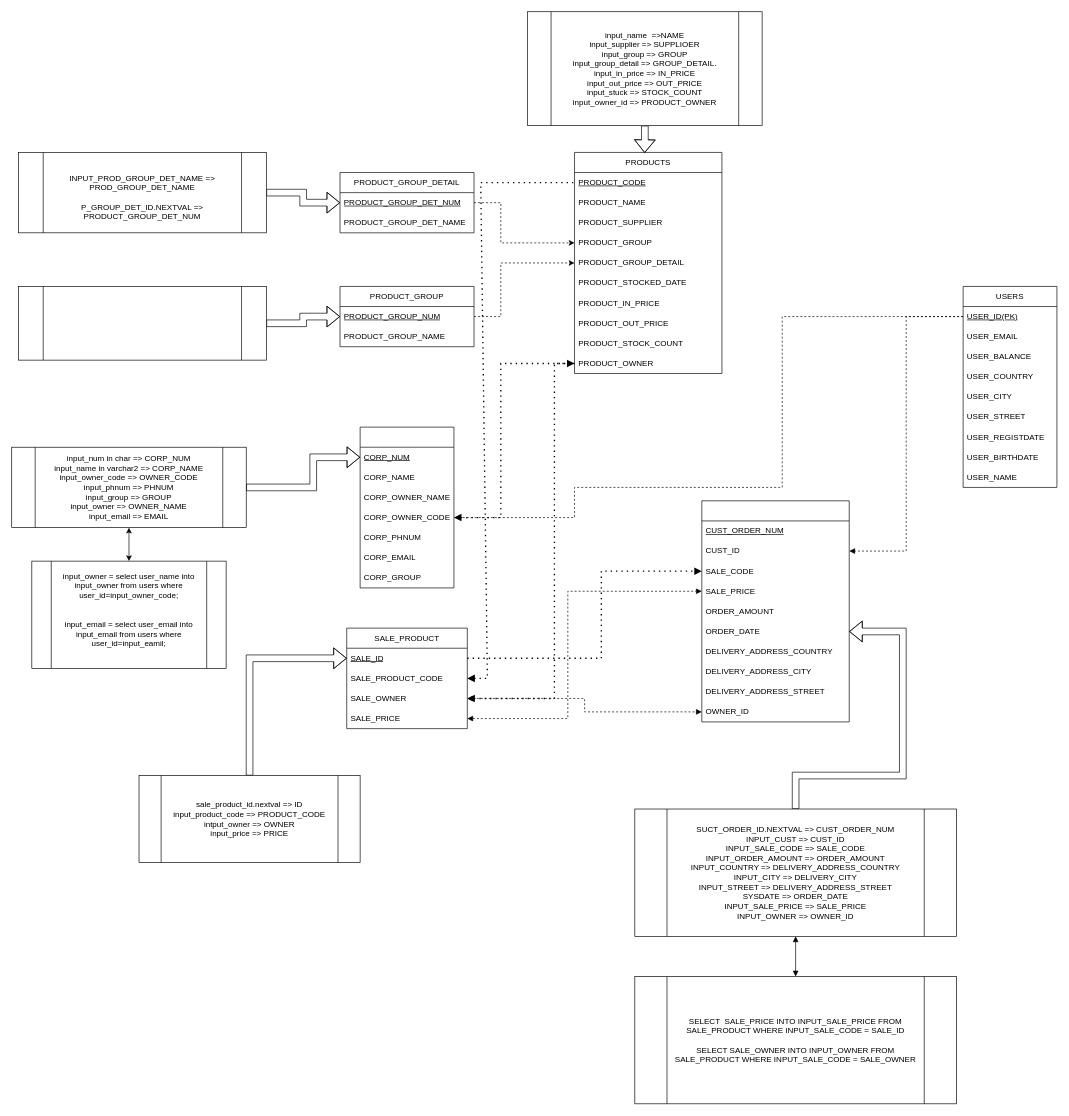
This 1069x1116 diagram has some shape labels left out. Each missing label, with the box of its shape:
CORPERATION: (359, 426, 454, 588)
CUSTOMER_ORDERS: (701, 500, 849, 722)
INPUT_PROD_GROUP_NAME => PROD_GROUP_NAME P_GROUP_ID.NEXTVAL => PRODUCT_GROUP_NUM: (18, 286, 266, 360)
